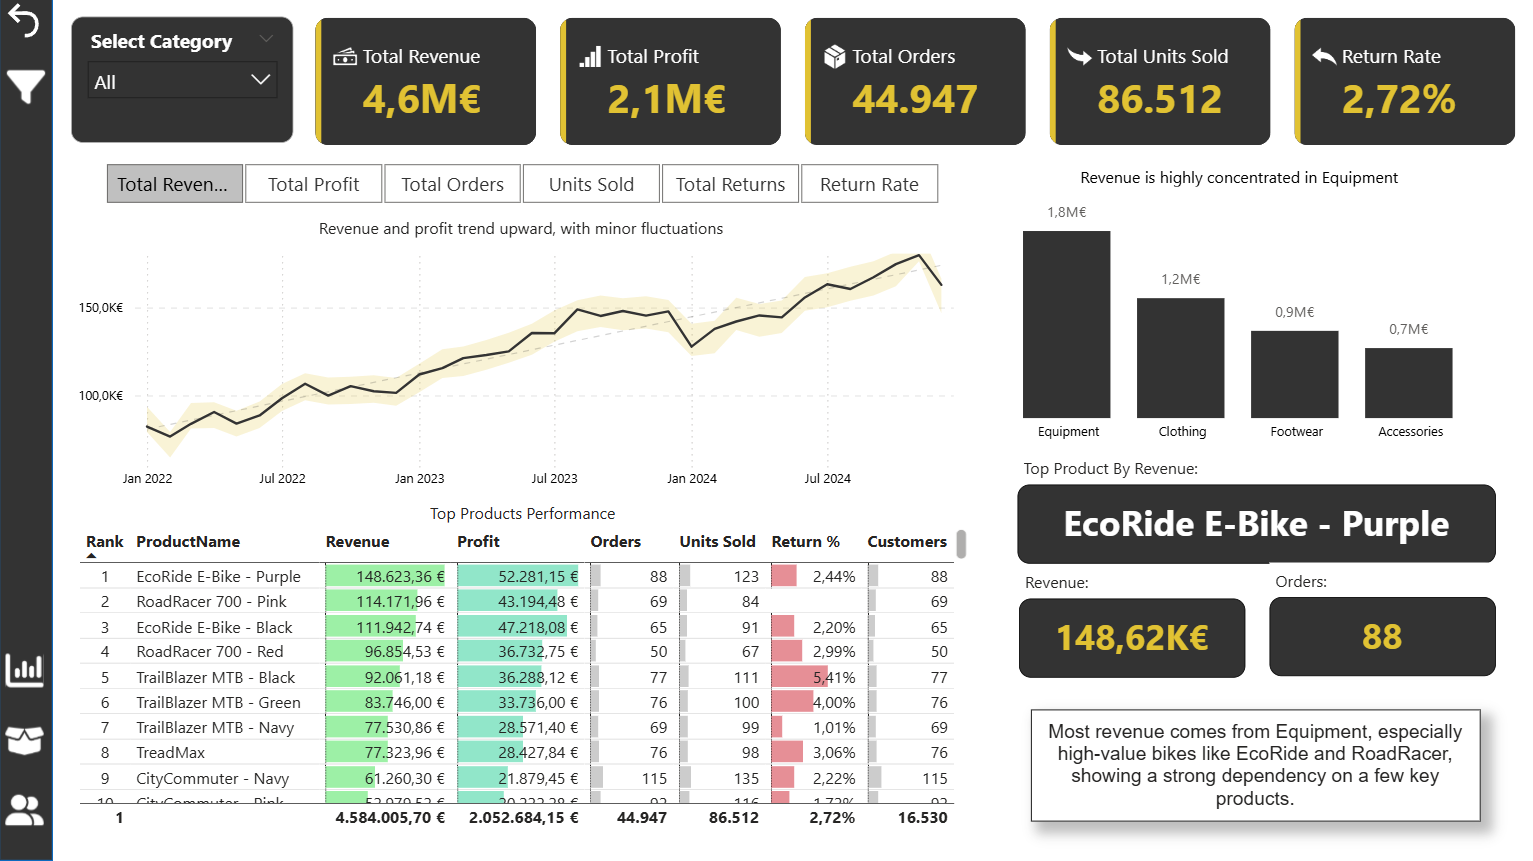

What the dashboard file says about the page in this screenshot:
{"tool":"powerbi","page":{"name":"Product Analysis","canvas":[1280,720],"ordinal":1},"visuals":[{"type":"shape","box":[0,0,45,720],"z":0},{"type":"cardVisual","fields":{"Data":["DAX Measures.Total Revenue","DAX Measures.Total Profit","DAX Measures.Total Orders","DAX Measures.Quantity Sold","DAX Measures.Return Rate"]},"box":[245.7,0,1034.3,140],"z":1000},{"type":"tableEx","title":"Top Products Performance","fields":{"Values":["DAX Measures.Product Rank(revenue)","Dim_Product.ProductName","DAX Measures.Total Revenue","DAX Measures.Total Profit","DAX Measures.Total Orders","DAX Measures.Quantity Sold","DAX Measures.Return Rate","DAX Measures.Total Customers"]},"box":[60.7,420.3,750.3,277.1],"z":2000},{"type":"slicer","fields":{"Values":["Parameter.Parameter"]},"box":[60,128.6,750,54.3],"z":3000},{"type":"slicer","fields":{"Values":["Dim_Product_Category.CategoryName"]},"box":[60,16.7,185.6,105.6],"z":4000},{"type":"lineChart","title":"Product Metric Trend","fields":{"Y":["DAX Measures.Total Revenue"],"Category":["Dim_Calendar.Start of Month"]},"box":[60,182.9,750,235.7],"z":5000},{"type":"lineClusteredColumnComboChart","title":"Metric by Category","fields":{"Y":["DAX Measures.Total Revenue"],"Category":["Dim_Product_Category.CategoryName"]},"box":[810,140,447.1,238.6],"z":6000},{"type":"textbox","box":[848.1,377.1,227.1,31.4],"z":7000},{"type":"card","fields":{"Values":["Min(Dim_Product.ProductName)"]},"box":[848.1,405.7,398.6,65.7],"z":8000},{"type":"textbox","box":[849.5,472.1,227.1,31.4],"z":9000},{"type":"card","fields":{"Values":["DAX Measures.Total Revenue"]},"box":[849.6,501,188.6,65.7],"z":10000},{"type":"textbox","box":[1058.1,471.9,188.6,30],"z":11000},{"type":"card","fields":{"Values":["DAX Measures.Total Orders"]},"box":[1058.1,500.4,188.6,65.7],"z":12000},{"type":"textbox","box":[858.3,583.3,375,115],"z":13000},{"type":"actionButton","box":[1.4,0,44.3,38.6],"z":14000},{"type":"actionButton","box":[1.4,657.1,45.7,40],"z":15000},{"type":"actionButton","box":[1.4,600,44.3,40],"z":16000},{"type":"actionButton","box":[1.4,541.4,45.7,40],"z":17000},{"type":"actionButton","box":[2.9,55,44.3,40],"z":18000}]}

Visuals, with their boxes on the page's 1280x720 design canvas (x1, y1, x2, y2). These are canvas units, not pixel positions in the 1533x861 screenshot, which may show the page scaled, cropped or inside an application window:
shape: [left=0, top=0, right=45, bottom=720]
cardVisual - DAX Measures.Total Revenue x DAX Measures.Total Profit: [left=246, top=0, right=1280, bottom=140]
"Top Products Performance" tableEx: [left=61, top=420, right=811, bottom=697]
slicer - Parameter.Parameter: [left=60, top=129, right=810, bottom=183]
slicer - Dim_Product_Category.CategoryName: [left=60, top=17, right=246, bottom=122]
"Product Metric Trend" lineChart: [left=60, top=183, right=810, bottom=419]
"Metric by Category" lineClusteredColumnComboChart: [left=810, top=140, right=1257, bottom=379]
textbox: [left=848, top=377, right=1075, bottom=408]
card - Min(Dim_Product.ProductName): [left=848, top=406, right=1247, bottom=471]
textbox: [left=850, top=472, right=1077, bottom=504]
card - DAX Measures.Total Revenue: [left=850, top=501, right=1038, bottom=567]
textbox: [left=1058, top=472, right=1247, bottom=502]
card - DAX Measures.Total Orders: [left=1058, top=500, right=1247, bottom=566]
textbox: [left=858, top=583, right=1233, bottom=698]
actionButton: [left=1, top=0, right=46, bottom=39]
actionButton: [left=1, top=657, right=47, bottom=697]
actionButton: [left=1, top=600, right=46, bottom=640]
actionButton: [left=1, top=541, right=47, bottom=581]
actionButton: [left=3, top=55, right=47, bottom=95]
